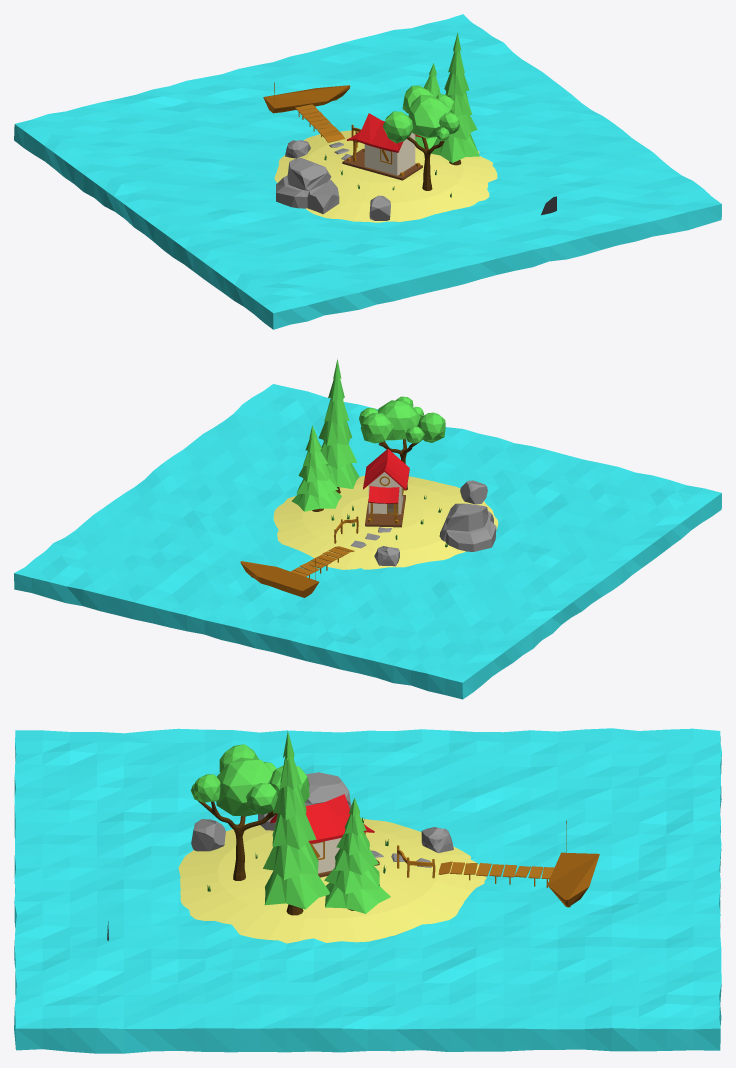
The model's file is render_deer.glb.
The picture shows the model from 3 angles, top to bottom: view 1: azimuth 30°, elevation 25°; view 2: azimuth 150°, elevation 25°; view 3: azimuth 270°, elevation 25°; orthographic projection. The views are drawn at different scales.
Parts seen in each view (by area): view 1: waves, Sphere.001, tree, Cylinder, rock, boat, WOOD3.001, Cube.001, Plane.001, WOOD3.003; view 2: waves, Sphere.001, Cylinder, tree, rock, boat, Cube.001, Plane.001, WOOD3.001, WOOD3.003; view 3: waves, Sphere.001, Cylinder, tree, boat, Cube.001, Plane.001, rock, Cube.002, Icosphere, WOOD3.001.
Boxes of the visible parts, x1,y1,x2,y2 form: waves: [14, 14, 721, 329]; Sphere.001: [274, 130, 497, 222]; tree: [382, 85, 459, 190]; Cylinder: [415, 33, 479, 162]; rock: [276, 158, 339, 214]; boat: [263, 82, 350, 113]; WOOD3.001: [364, 132, 415, 175]; Cube.001: [357, 113, 421, 152]; Plane.001: [295, 104, 344, 142]; WOOD3.003: [342, 149, 422, 180]; waves: [14, 384, 721, 699]; Sphere.001: [273, 475, 498, 569]; Cylinder: [291, 359, 359, 511]; tree: [359, 396, 445, 490]; rock: [439, 503, 496, 551]; boat: [240, 558, 319, 597]; Cube.001: [363, 449, 409, 490]; Plane.001: [291, 546, 354, 578]; WOOD3.001: [368, 472, 403, 514]; WOOD3.003: [365, 495, 405, 527]; waves: [14, 728, 721, 1053]; Sphere.001: [178, 818, 486, 943]; Cylinder: [263, 731, 390, 913]; tree: [190, 744, 309, 880]; boat: [547, 820, 599, 907]; Cube.001: [270, 794, 350, 843]; Plane.001: [438, 861, 554, 887]; rock: [258, 772, 351, 830]; Cube.002: [191, 819, 225, 851]; Icosphere: [421, 827, 453, 853]; WOOD3.001: [312, 837, 341, 873].
Bounding box in the file's own units: 6.81 × 2.27 × 6.8.
